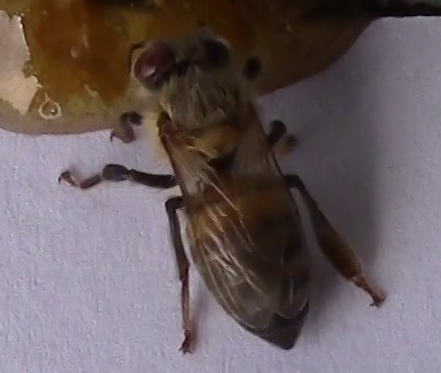Varroa destructor: (131, 44, 179, 85)
